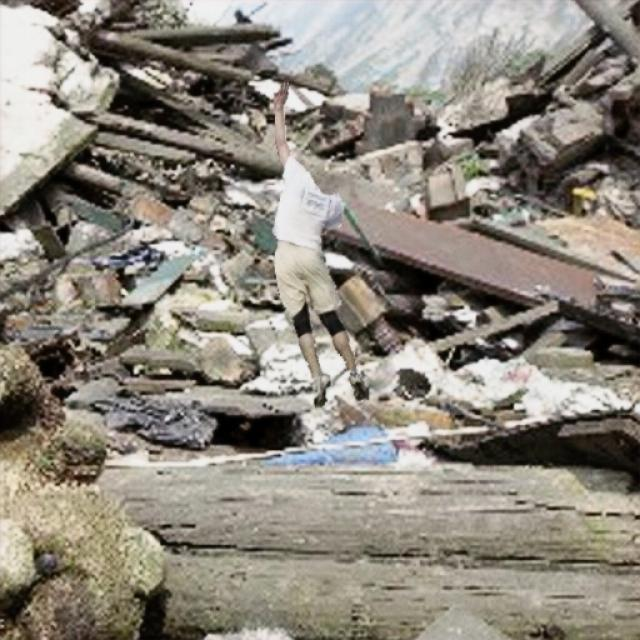Person in Rubble: (272, 82, 368, 406)
